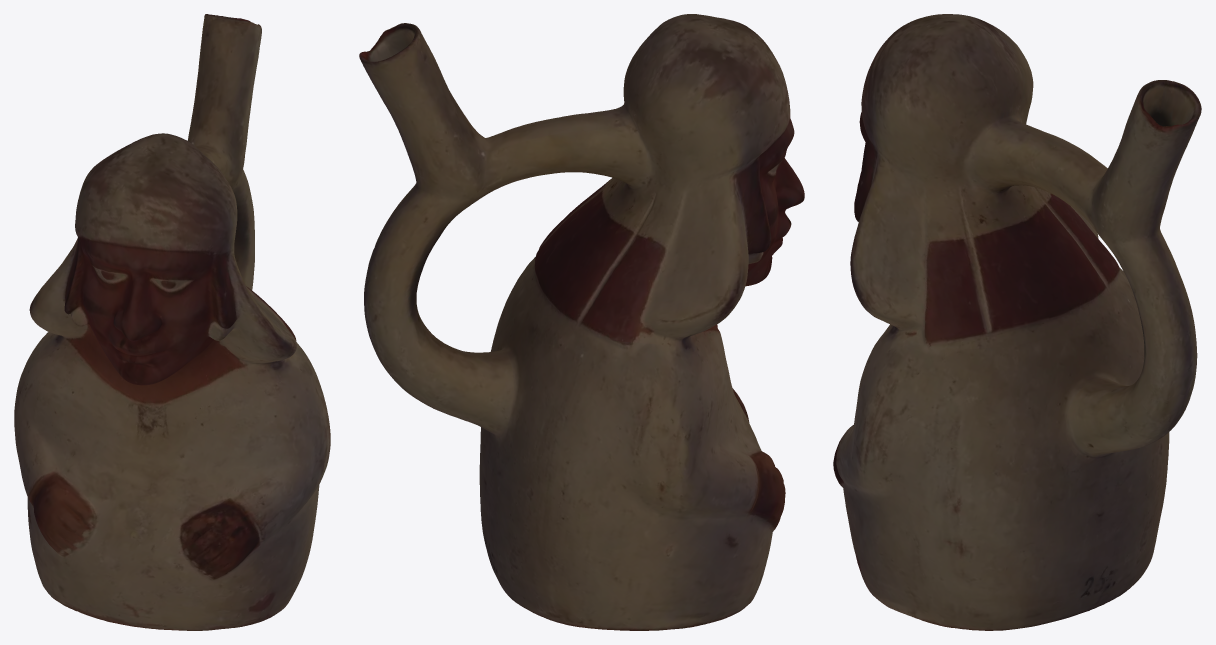
File: preview.glb
3 renders of one model, left to right at view 1: azimuth 30°, elevation 25°; view 2: azimuth 150°, elevation 25°; view 3: azimuth 270°, elevation 25°, orthographic. The views are drawn at different scales.
Parts seen in each view (by area): view 1: Object_2; view 2: Object_2; view 3: Object_2.
Boxes of the visible parts, x1=… form: Object_2: x1=14, y1=14, x2=330, y2=630; Object_2: x1=359, y1=14, x2=804, y2=630; Object_2: x1=833, y1=14, x2=1201, y2=630.
Size of the model in its own units: 143 by 235 by 140.
Materials: 1 (1 with a texture image).
